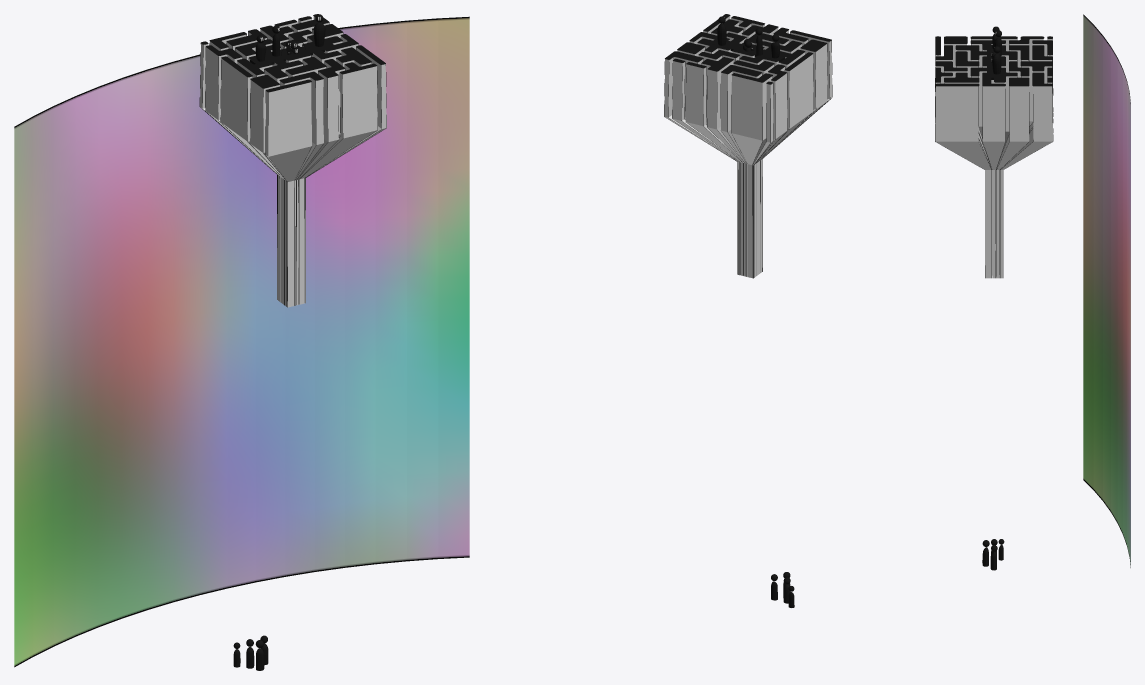
File: env.glb
3 views of the same model, side by side, from view 1: azimuth 30°, elevation 25°; view 2: azimuth 150°, elevation 25°; view 3: azimuth 270°, elevation 25° (orthographic). The views are drawn at different scales.
Visible parts, largest first — view 1: backdrop1, sides, top, lines; view 2: sides, top, lines; view 3: backdrop1, sides, top, lines.
Part boxes in pixels (x1,y1,x2,y2): backdrop1: [14, 16, 469, 667]; sides: [200, 16, 386, 307]; top: [201, 14, 385, 92]; lines: [199, 19, 386, 307]; sides: [664, 16, 832, 277]; top: [665, 14, 831, 84]; lines: [664, 18, 832, 278]; backdrop1: [1083, 14, 1130, 567]; sides: [935, 39, 1052, 278]; top: [935, 36, 1052, 86]; lines: [935, 39, 1053, 277].
Bounding box in the file's own units: 38.36 × 51.13 × 16.63.
1 material, 1 textured.
